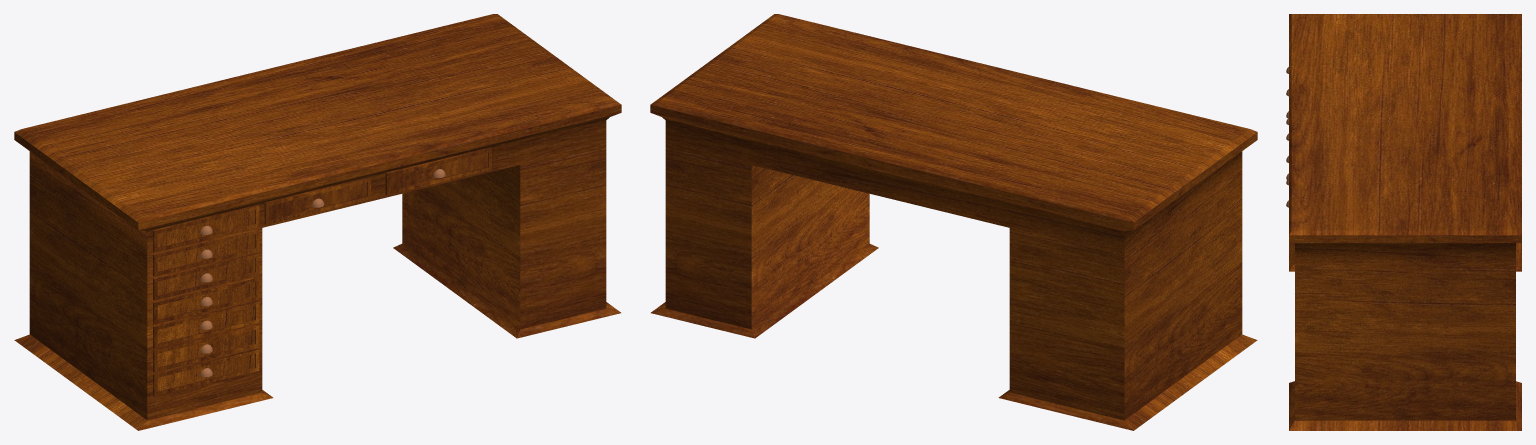
Rendered from escritorio.fbx.
The picture shows the model from 3 angles, left to right: view 1: azimuth 30°, elevation 25°; view 2: azimuth 150°, elevation 25°; view 3: azimuth 270°, elevation 25°; orthographic projection. The views are drawn at different scales.
Parts seen in each view (by area): view 1: escritorio, cajones, manijas; view 2: escritorio; view 3: escritorio.
Boxes of the visible parts, box(x1,y1,x2,y2) form: escritorio: box(14, 14, 621, 430); cajones: box(153, 147, 491, 396); manijas: box(200, 169, 445, 377); escritorio: box(650, 14, 1257, 430); escritorio: box(1289, 14, 1521, 430).
Bounding box in the file's own units: 180 × 75 × 80.95.
